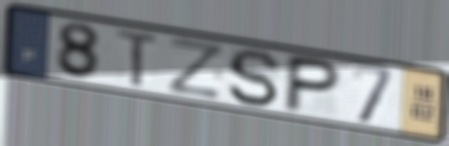7: (350, 60, 394, 128)
8: (55, 21, 103, 80)
P: (279, 52, 346, 116)
S: (226, 47, 285, 110)
T: (114, 27, 162, 89)
Z: (165, 34, 226, 102)
